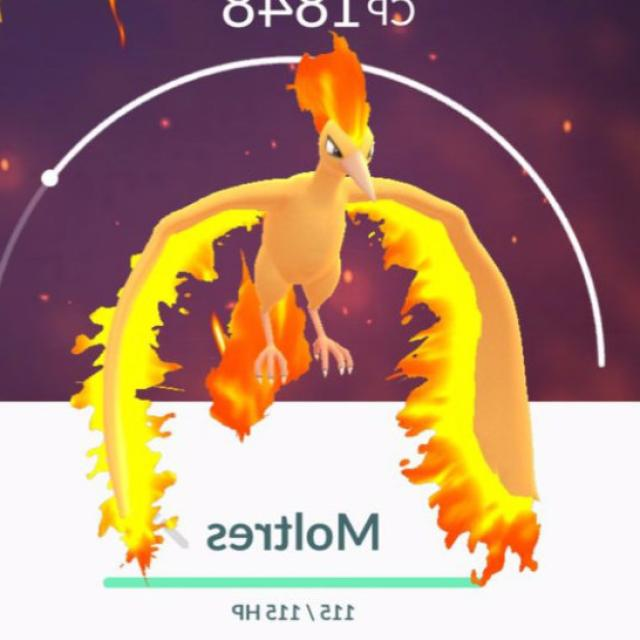Moltres: (82, 49, 535, 459)
